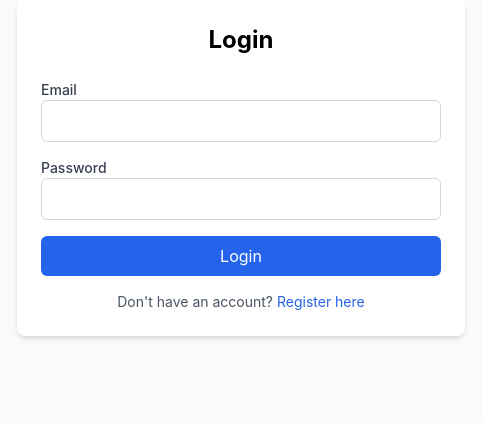
Test: Login Component › shows error when password is missing
Type "test@example.com" into the field labelled "Email" at (241, 121), box [41,100,441,142]
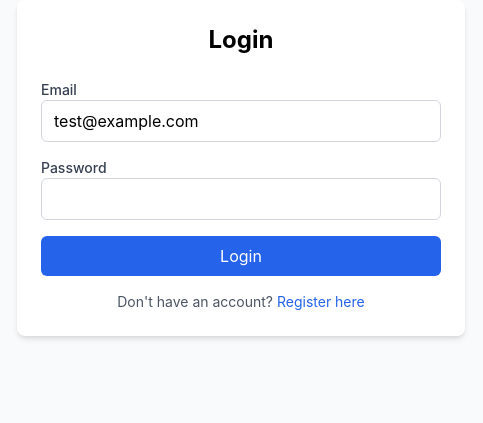
Click the button "Login" at (241, 256), box [41,236,441,276]
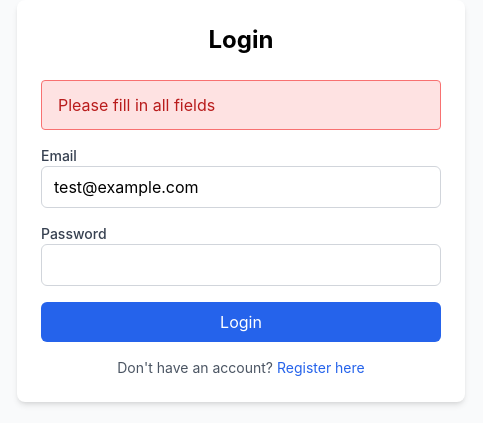
Check: the text "Please fill in all fields" is shown, box [41,80,441,130]
